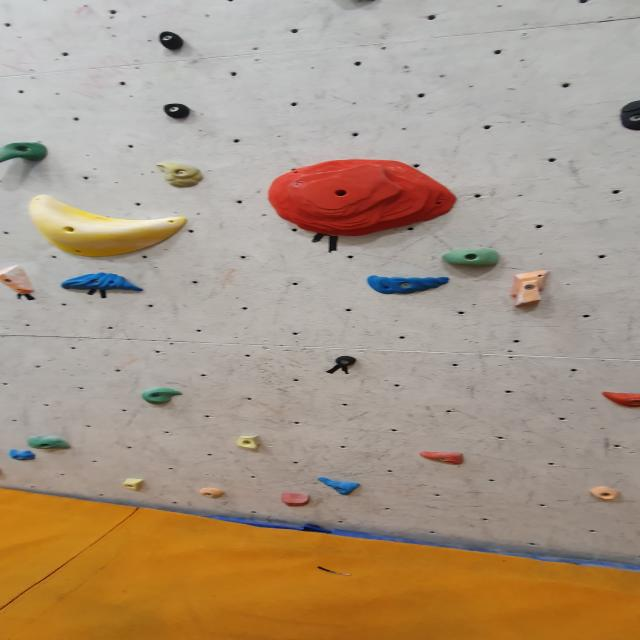Crimp: (264, 162, 464, 242), (56, 273, 146, 298), (362, 276, 453, 295), (153, 161, 208, 190), (417, 451, 470, 466), (596, 390, 640, 408), (318, 478, 362, 496), (122, 476, 148, 494), (8, 450, 40, 462)
Jug: (441, 247, 503, 268), (1, 140, 53, 163), (140, 387, 187, 406), (25, 438, 73, 452), (586, 486, 624, 502), (234, 436, 263, 453)
Pinch: (506, 270, 556, 306), (0, 262, 43, 301), (615, 101, 640, 132), (160, 103, 197, 122), (155, 29, 186, 49), (330, 351, 360, 370), (198, 487, 228, 500)
Sloper: (23, 193, 192, 260), (278, 492, 314, 508)
